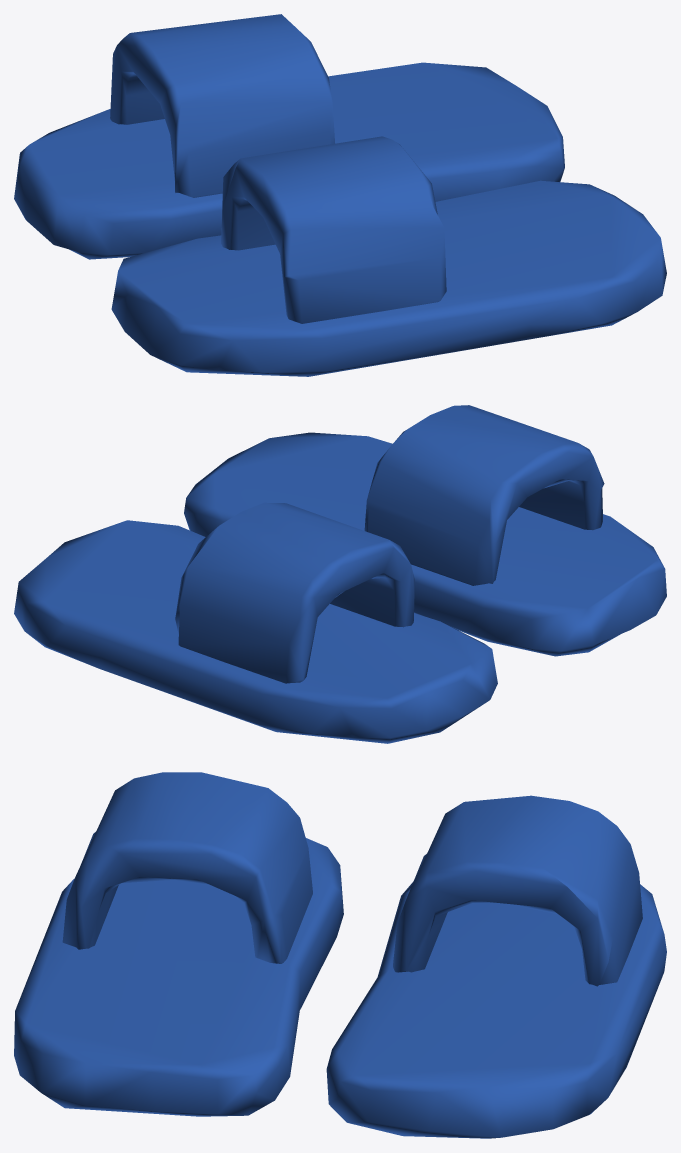
The model's file is slipper_LOD2.fbx.
3 views of the same model, one above another, from view 1: azimuth 30°, elevation 25°; view 2: azimuth 150°, elevation 25°; view 3: azimuth 270°, elevation 25° (orthographic). The views are drawn at different scales.
Visible parts, largest first — view 1: slipper; view 2: slipper; view 3: slipper.
Boxes of the visible parts, x1,y1,x2,y2 form: slipper: [14, 14, 666, 376]; slipper: [14, 405, 666, 743]; slipper: [14, 772, 666, 1138].
Size of the model in its own units: 886 by 253 by 907.
